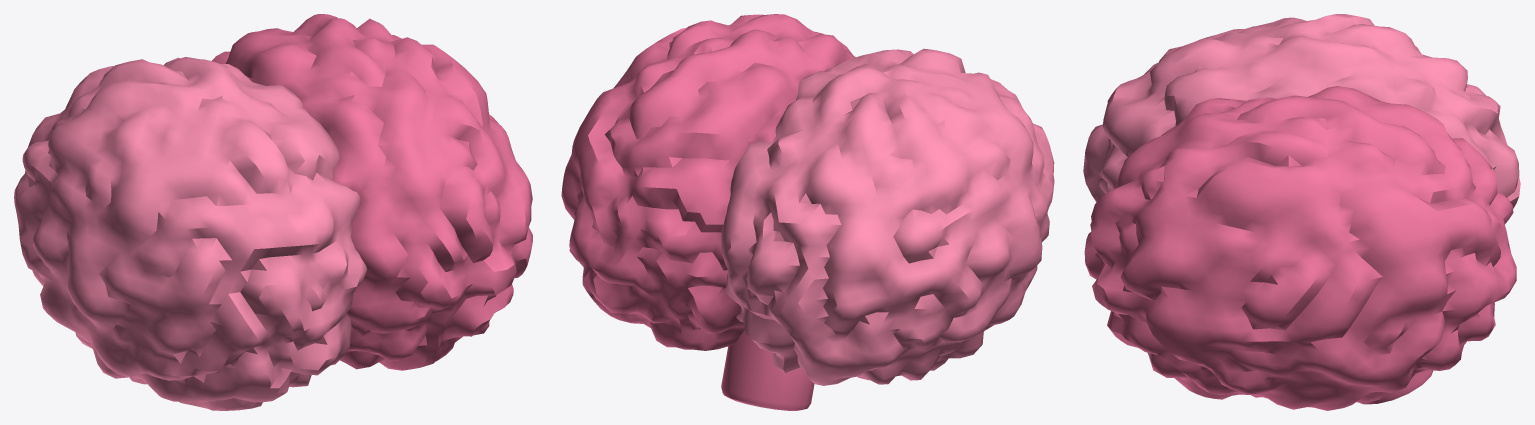
File: bl_brain.glb
3 renders of one model, left to right at view 1: azimuth 30°, elevation 25°; view 2: azimuth 150°, elevation 25°; view 3: azimuth 270°, elevation 25°, orthographic. The views are drawn at different scales.
Visible parts, largest first — view 1: brain; view 2: brain; view 3: brain.
Part boxes in pixels (left/top/right/bottom): brain: left=14, top=14, right=532, bottom=410; brain: left=561, top=14, right=1054, bottom=410; brain: left=1083, top=14, right=1520, bottom=410.
Size of the model in its own units: 2.97 by 2.19 by 2.63.
